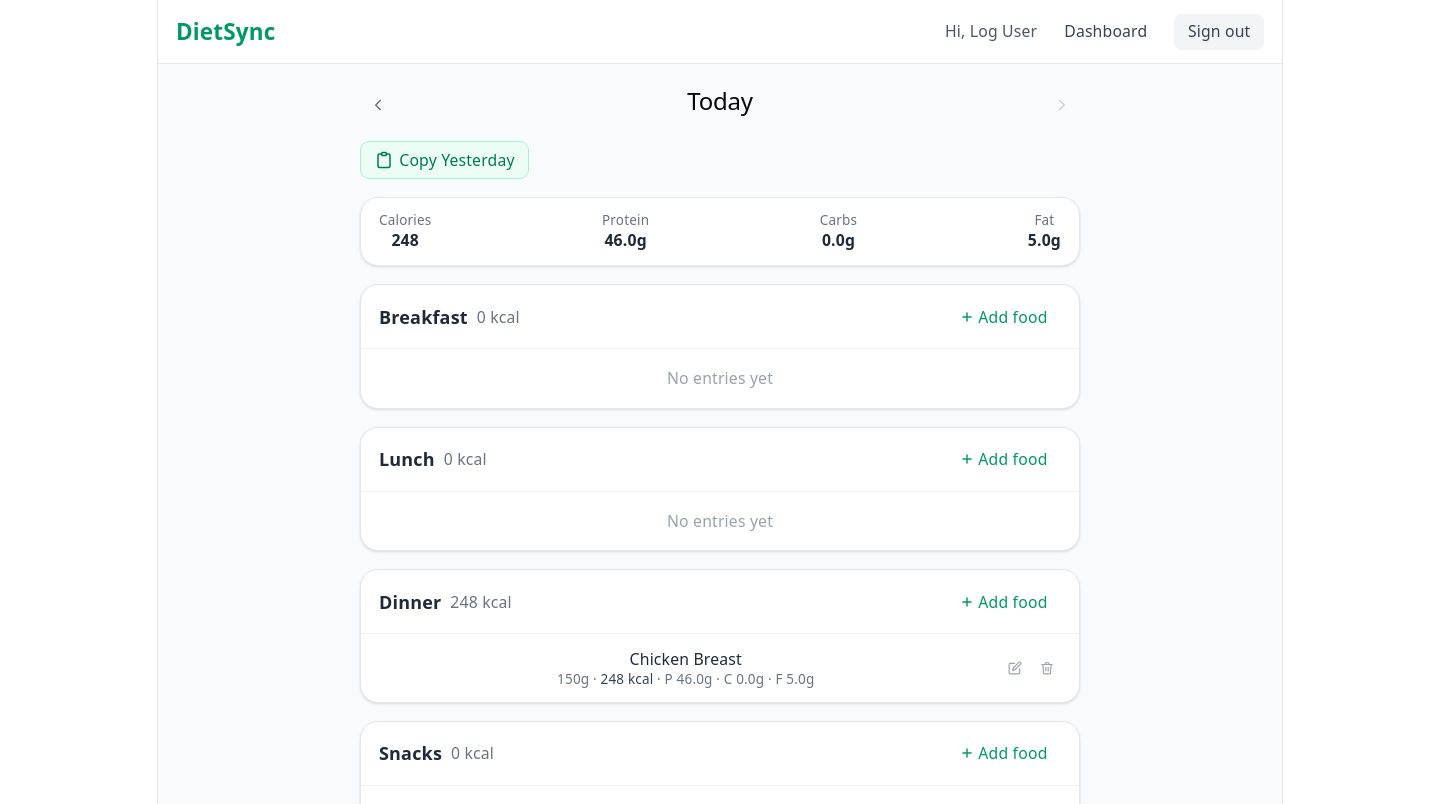
Test: Removing a food entry › removes entry row from UI after clicking remove
The width and height of the screenshot is (1440, 804).
Expected: the text "Chicken Breast" is shown, [630,648,742,670]
// Click remove
Click the button named "remove chicken breast": click(1047, 668) [1034,654,1061,682]
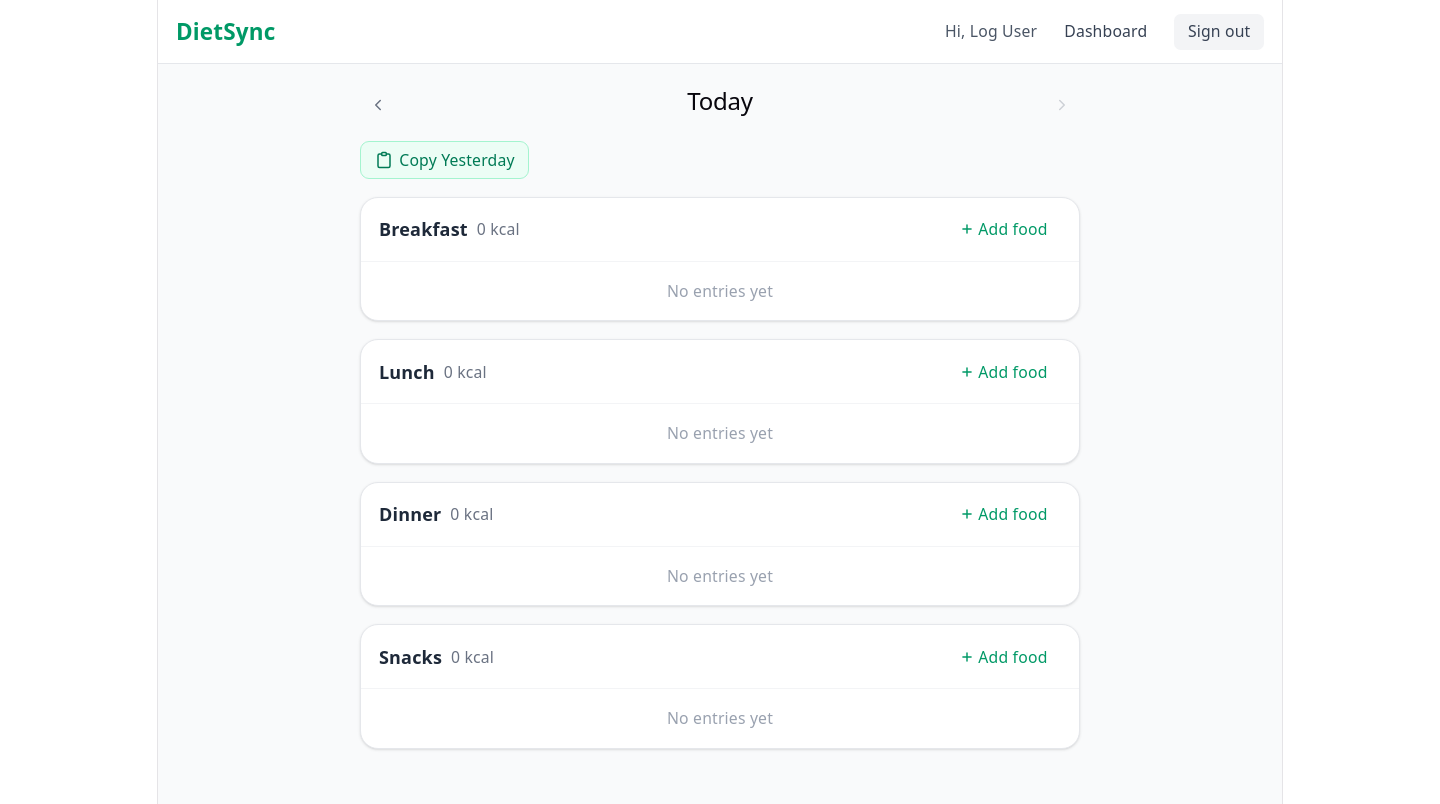
Result: the text "Chicken Breast" is gone
